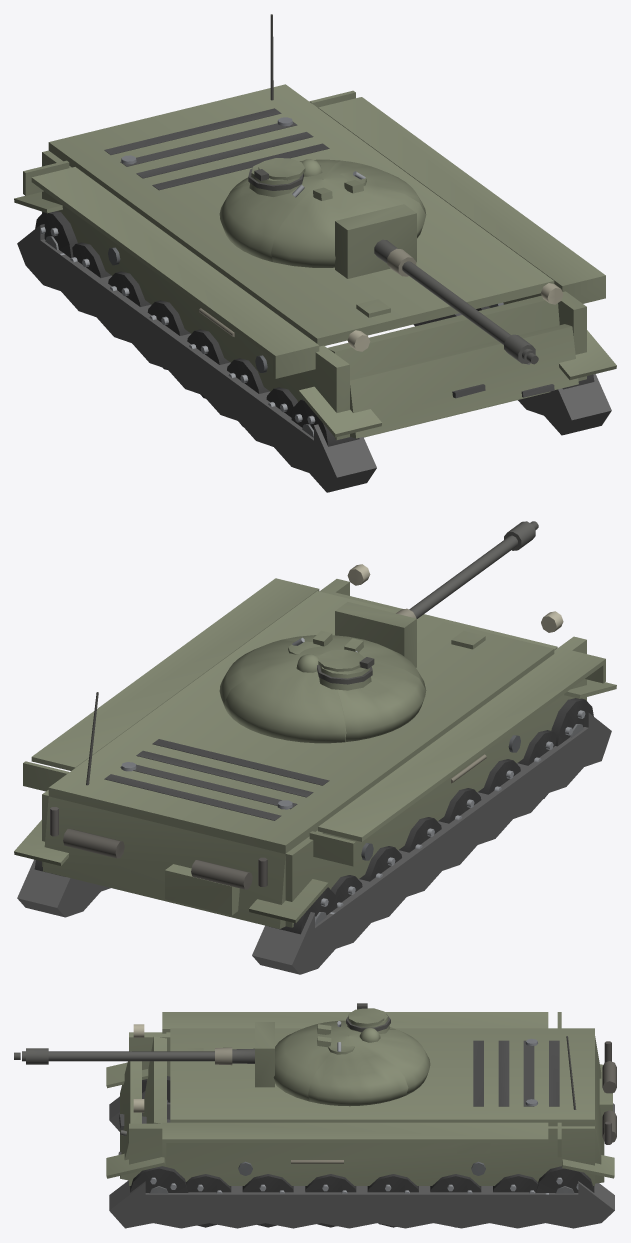
3 views of the same model, one above another, from view 1: azimuth 30°, elevation 25°; view 2: azimuth 150°, elevation 25°; view 3: azimuth 270°, elevation 25° (orthographic). The views are drawn at different scales.
Parts seen in each view (by area): view 1: hullTop, hullSide, tracks, lowerPlate, glacis, turretFront, turretSide, mantlet, barrel, turretRoof, wheel7, wheel6 (+5 smaller); view 2: hullTop, hullSide, tracks, hullRear, turretRear, turretSide, turretRoof, mantlet, barrel, turretFront, wheel6, glacis (+6 smaller); view 3: hullSide, hullTop, tracks, turretSide, turretFront, barrel, hullRear, turretRear, glacis, turretRoof, lowerPlate, mantlet (+8 smaller).
Part boxes in pixels (x1,y1,x2,y2): hullTop: (48,84,554,346); hullSide: (23,90,605,439); tracks: (14,192,616,492); lowerPlate: (350,324,578,438); glacis: (327,295,559,437); turretFront: (271,179,425,267); turretSide: (219,160,425,261); mantlet: (335,204,416,278); barrel: (374,239,538,364); turretRoof: (248,158,366,200); wheel7: (35,211,77,257); wheel6: (291,399,359,446); hullTop: (48,591,554,853); hullSide: (23,564,605,927); tracks: (14,679,616,974); hullRear: (43,692,286,928); turretRear: (224,655,345,743); turretSide: (219,639,426,742); turretRoof: (288,630,374,690); mantlet: (335,602,416,667); barrel: (396,521,538,618); turretFront: (283,635,425,689); wheel6: (551,698,593,746); glacis: (333,592,557,650); hullSide: (129,1012,594,1185); hullTop: (170,1028,594,1126); tracks: (106,1062,614,1228); turretSide: (308,1020,408,1106); turretFront: (273,1024,347,1101); barrel: (14,1047,254,1065); hullRear: (566,1036,616,1183); turretRear: (349,1029,430,1095); glacis: (118,1036,203,1154); turretRoof: (317,1003,390,1054); lowerPlate: (120,1051,141,1180); mantlet: (255,1022,274,1087).
Bounding box in the file's own units: 4.53 × 2.89 × 9.06.
